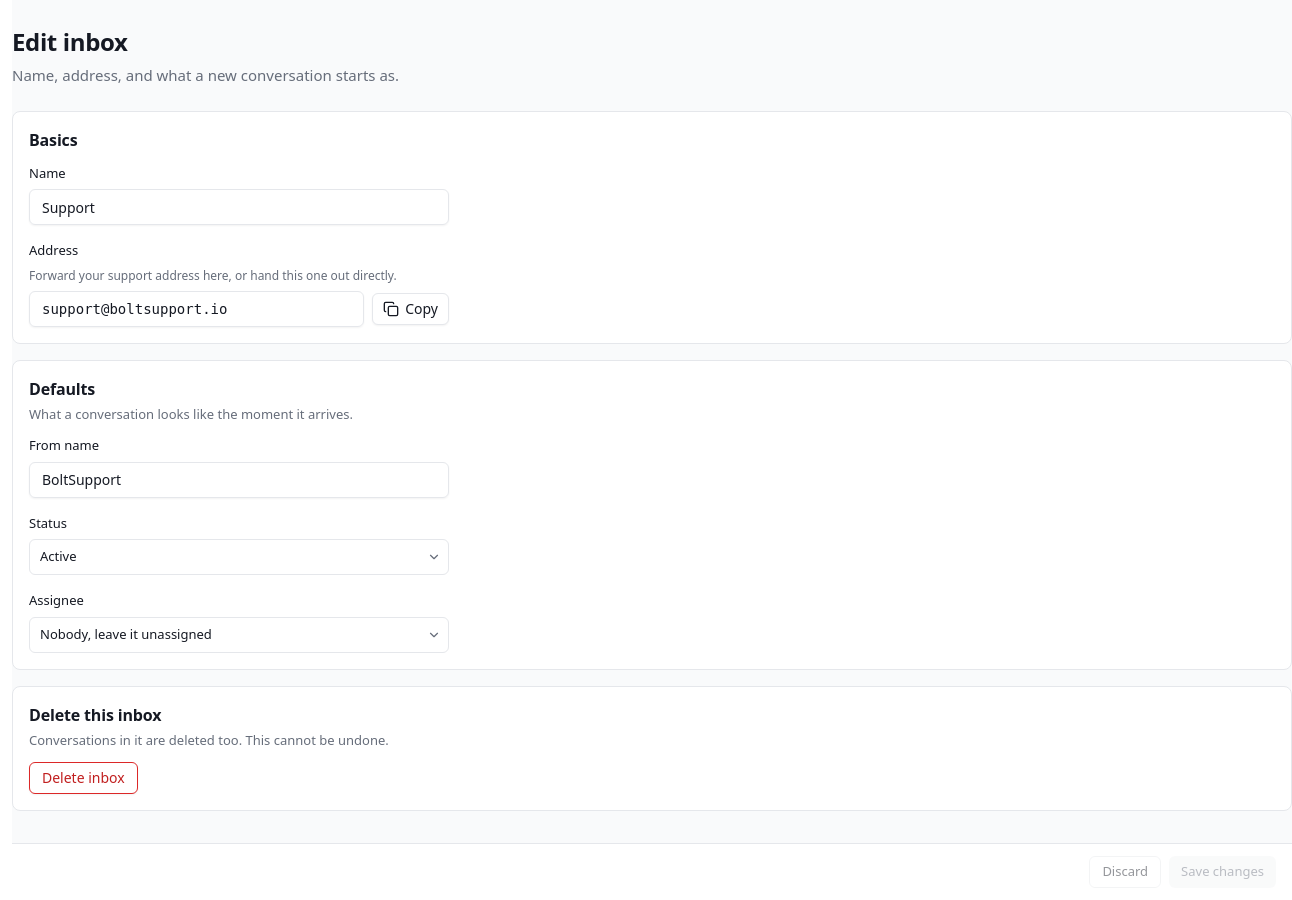
editing an inbox › enables Save on the first edit and persists it
expect the button "Save changes" is disabled: met, box [1169, 856, 1276, 888]
In the field labelled "Name": [239, 207] box [29, 189, 449, 225], type " desk"
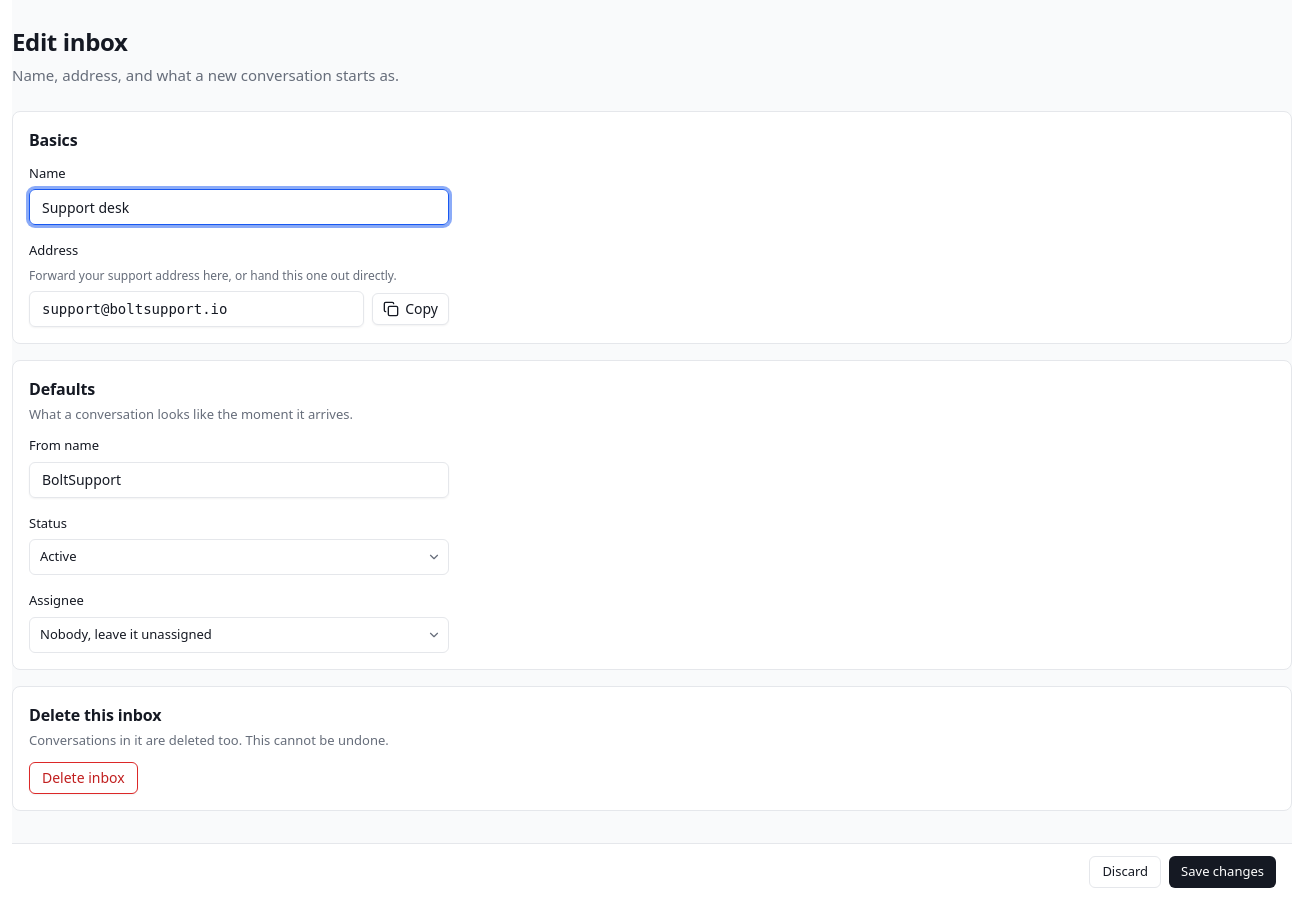
expect the button "Save changes" is enabled: met
Click the button "Save changes": [1223, 872] box [1169, 856, 1276, 888]
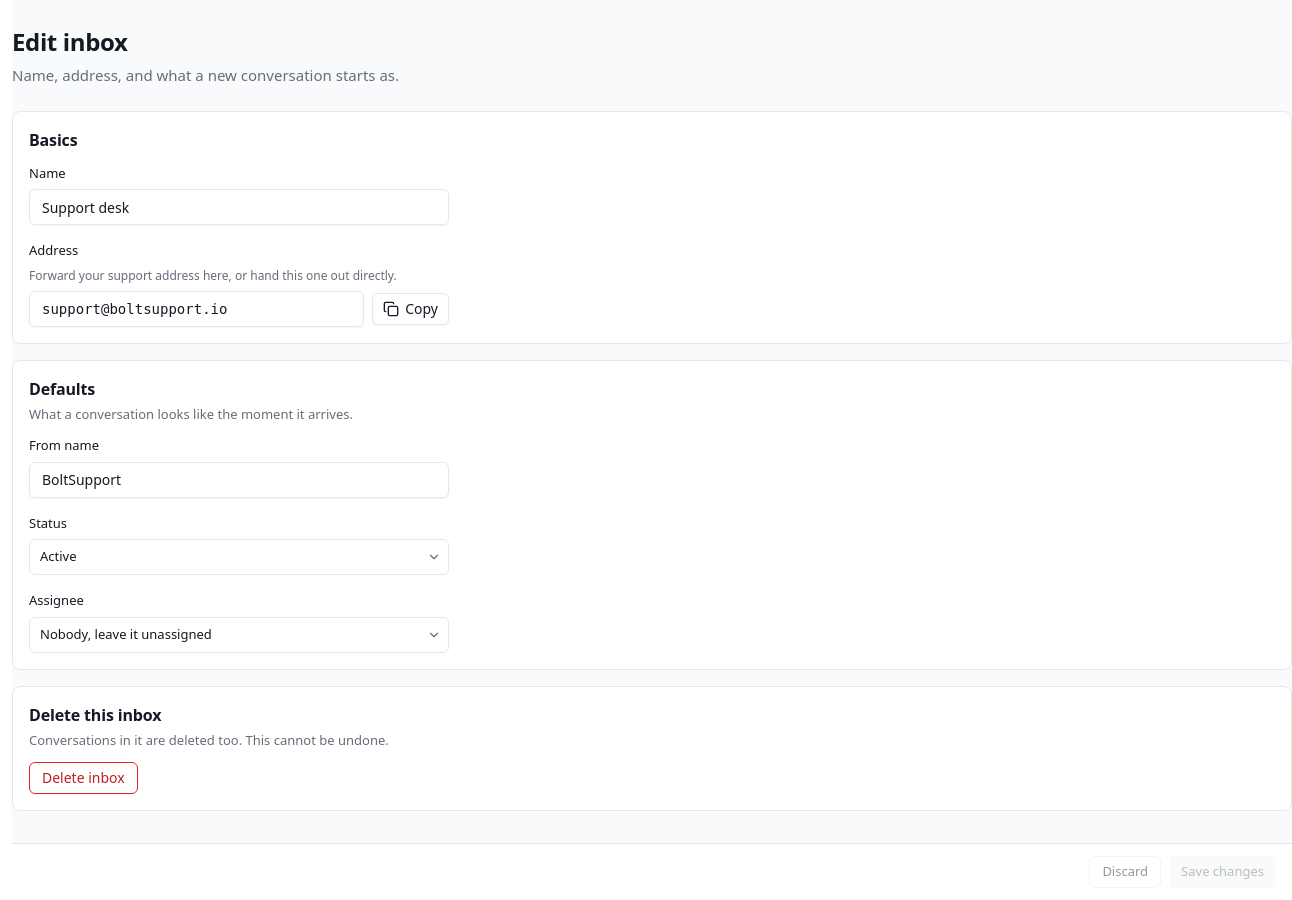
expect the button "Save changes" is disabled: met, box [1169, 856, 1276, 888]
